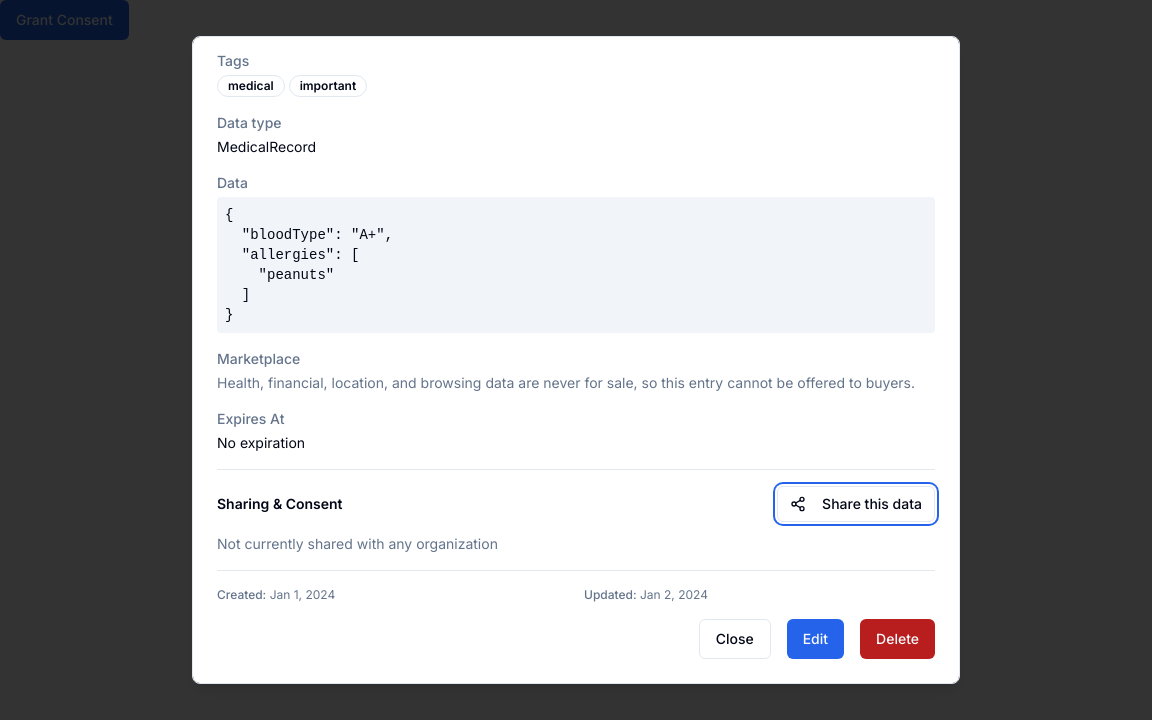
Test: VaultViewDialog › Action Buttons › Delete button shows confirmation dialog
The image size is (1152, 720).
(page scrolled)
Click the button "Delete" at (898, 639), box [860,619,935,659]
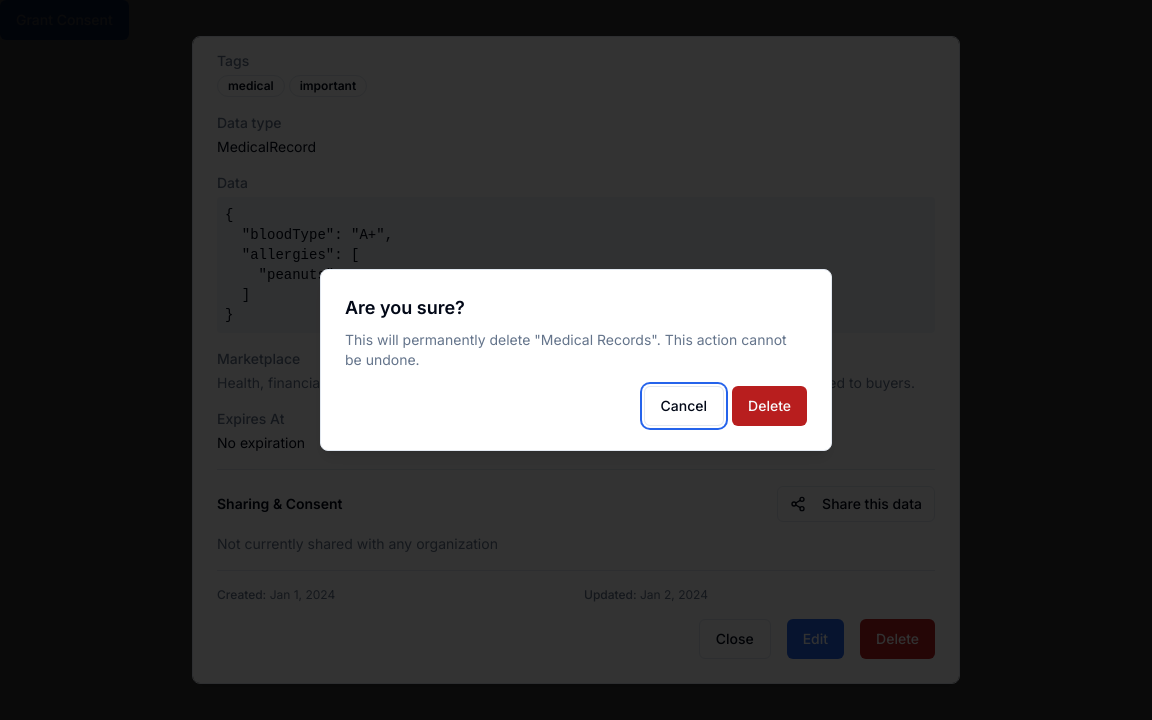
Expected: the heading "Are you sure?" is shown, [345,297,465,318]
